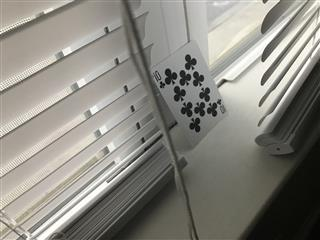TenOfClubs: (149, 39, 229, 148)
